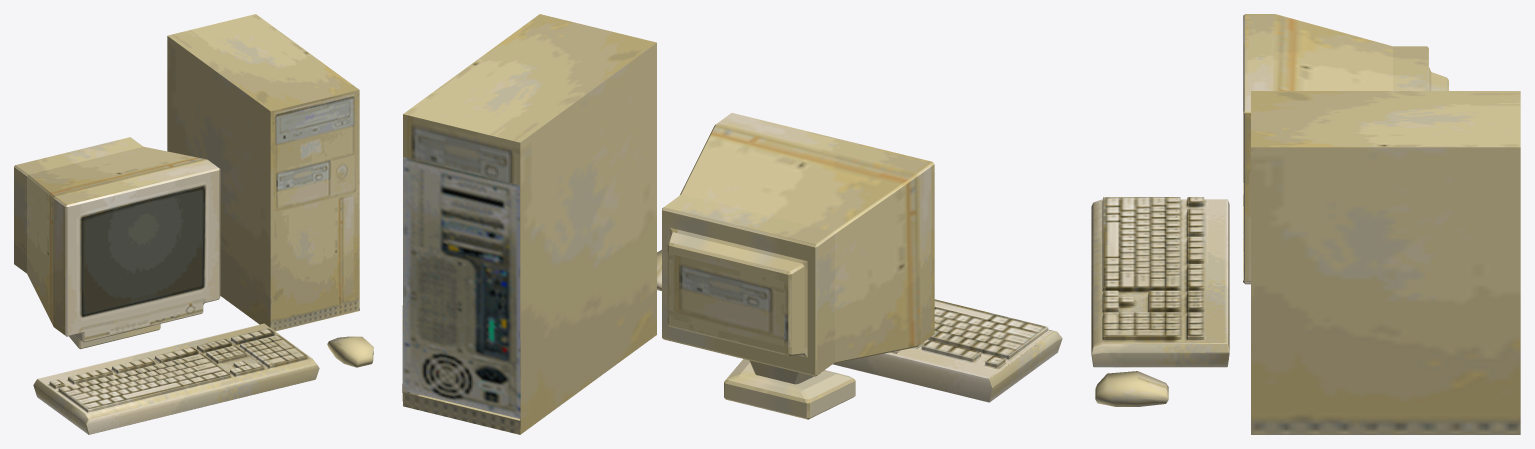
File: LowPolyPSXoldpc.fbx
3 renders of one model, left to right at view 1: azimuth 30°, elevation 25°; view 2: azimuth 150°, elevation 25°; view 3: azimuth 270°, elevation 25°, orthographic. The views are drawn at different scales.
Parts seen in each view (by area): view 1: CPU Plainde, Monitor Plainde, Keyboarde, Mousede; view 2: CPU Plainde, Monitor Plainde, Keyboarde; view 3: CPU Plainde, Keyboarde, Monitor Plainde, Mousede.
Part boxes in pixels (x1,y1,x2,y2): CPU Plainde: [167, 14, 359, 331]; Monitor Plainde: [14, 137, 220, 349]; Keyboarde: [33, 323, 319, 434]; Mousede: [327, 336, 373, 367]; CPU Plainde: [402, 14, 656, 434]; Monitor Plainde: [662, 113, 934, 419]; Keyboarde: [833, 299, 1062, 402]; CPU Plainde: [1251, 91, 1520, 434]; Keyboarde: [1091, 197, 1229, 367]; Monitor Plainde: [1243, 14, 1448, 284]; Mousede: [1095, 371, 1168, 406].
Size of the model in its own units: 468 by 295 by 399.
Materials: 4 (4 with a texture image).
